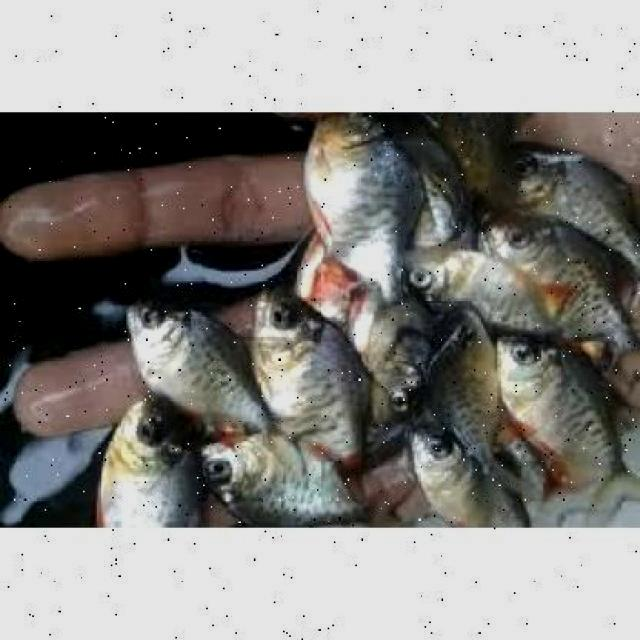ikan-pacu: (494, 328, 638, 500), (300, 112, 426, 288), (120, 296, 268, 438), (249, 287, 363, 467), (485, 210, 638, 338), (190, 428, 386, 526), (513, 141, 638, 250), (100, 396, 202, 527), (408, 244, 550, 330)
